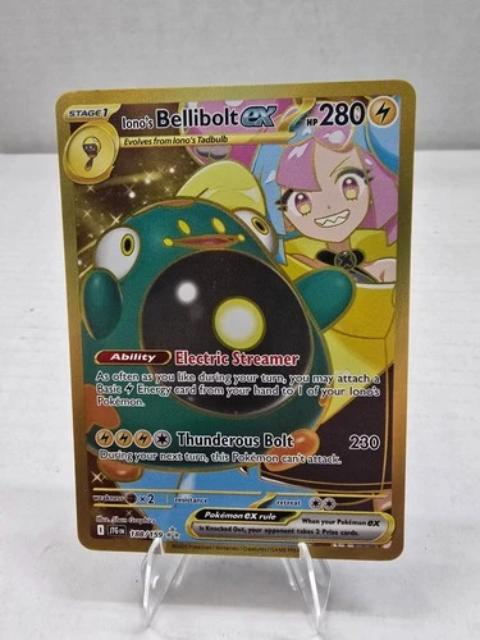Card: (50, 75, 419, 564)
Name: (115, 99, 284, 137)
